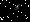person: (14, 3, 22, 20)
